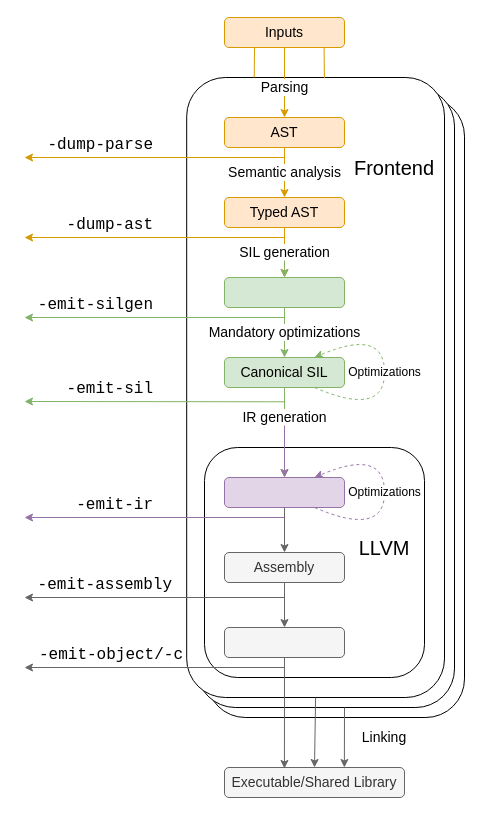
Image size: 482x815. Some labels were removed from this diagram. The shapes that lost their labels are listed below. From the top down, each one's centre as x and y in pixels, then its label:
At point 284,292: "Raw SIL".
At point 284,492: "LLVM IR".
At point 284,642: "Object Code".
